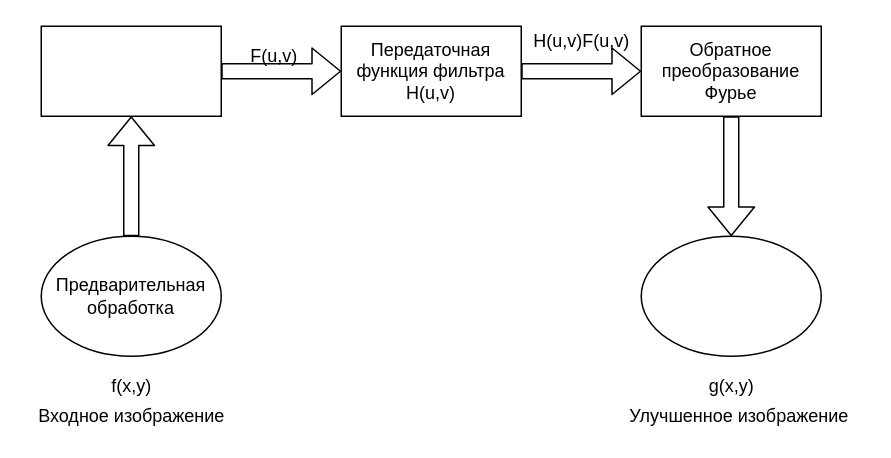
Image size: 891x458. Some labels were removed from this diagram. Here are the shapes that lost their labels. From the top down, the centre of each, then its label:
At pixel 130 70: "Преобразование Фурье".
At pixel 730 295: "Заключительная обработка".
